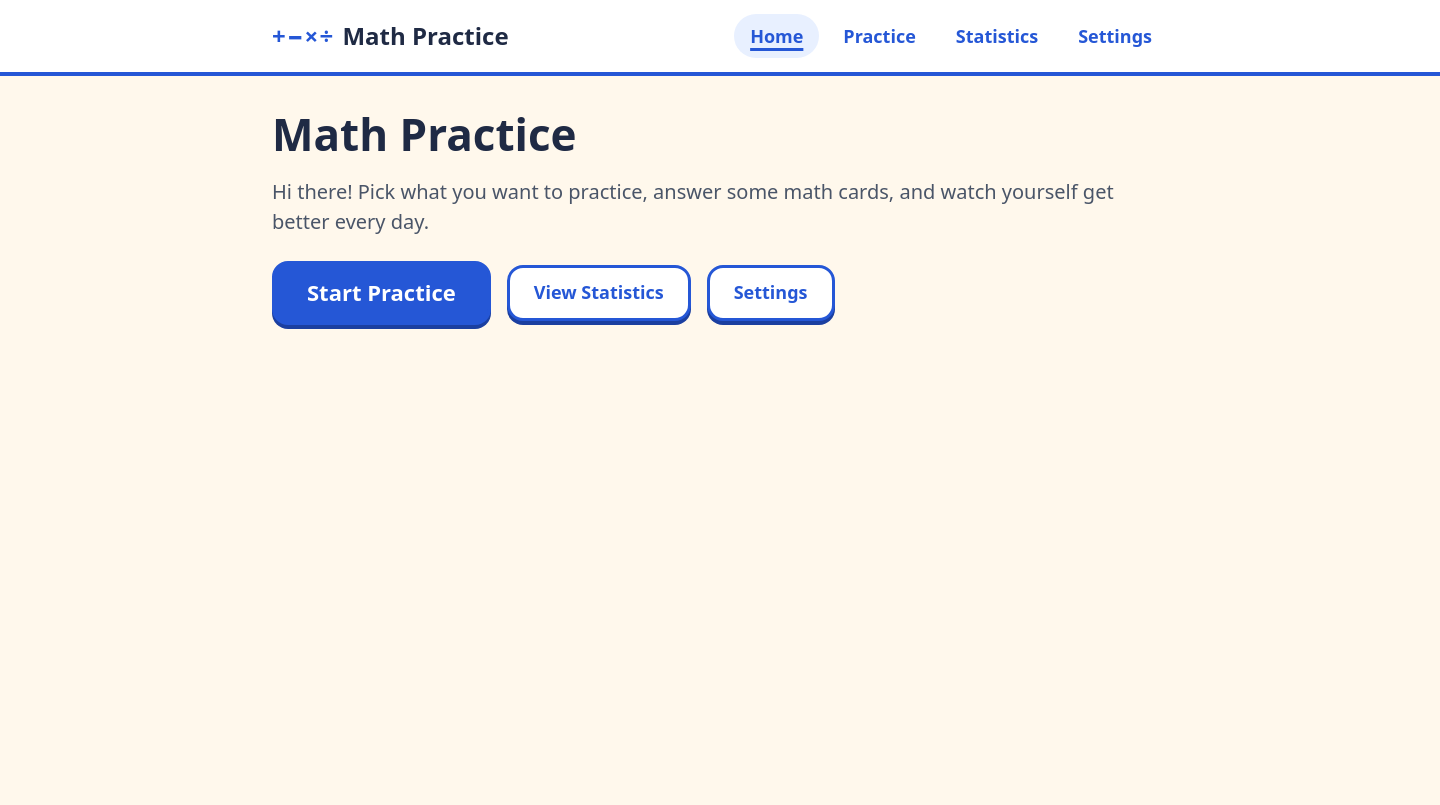
Scenario: Home page › Start Practice opens /practice/setup
Click the link "Start Practice" at (381, 293), box [272,261,491,325]
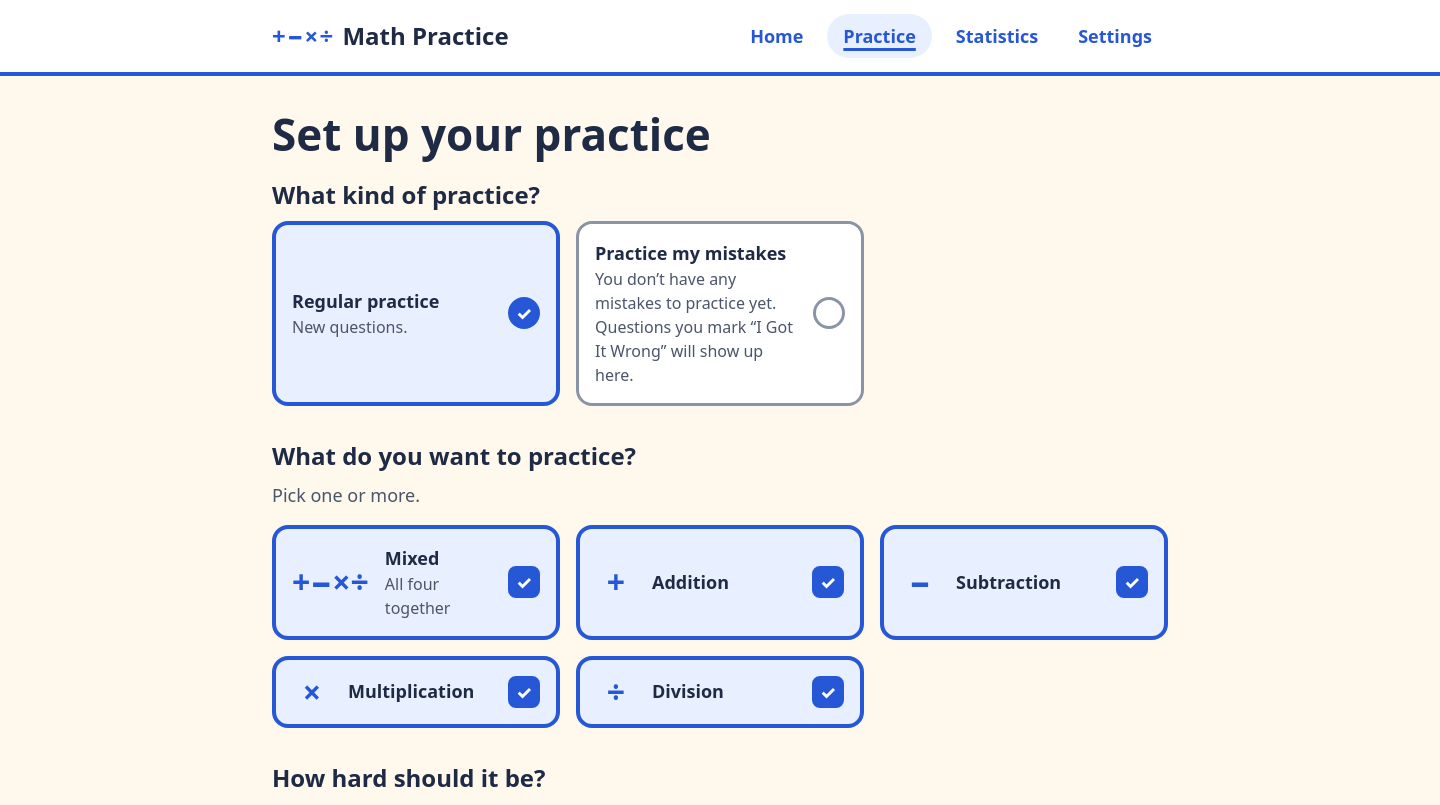
Result: the heading "Set up your practice" is shown at [272,104,711,164]
